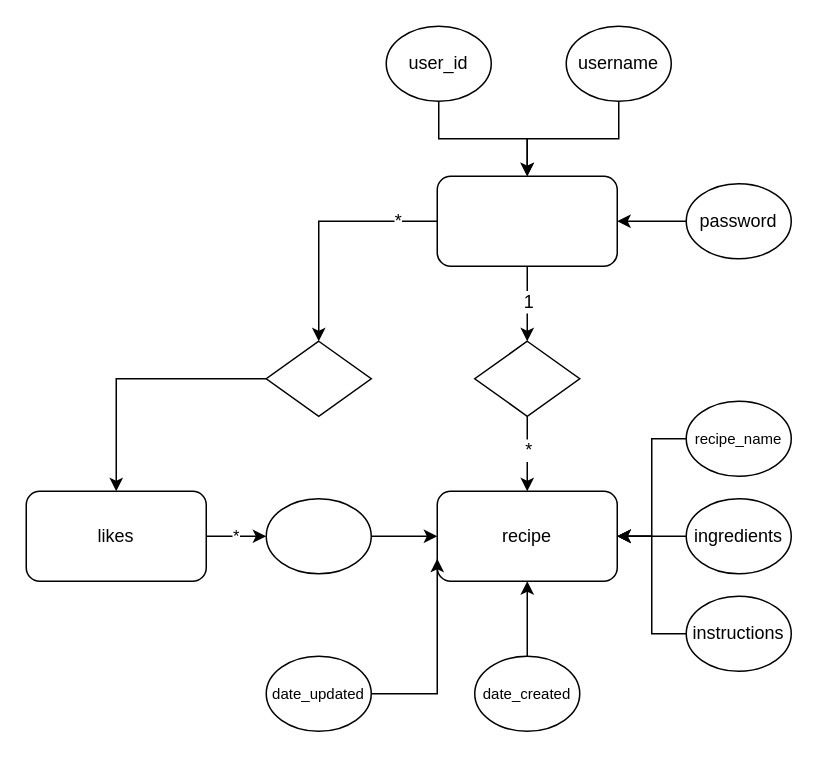
The diagram is 818 pixels wide and 758 high, and some of its shapes have lost their labels. The box of each missing label's shape, as (x1, y1, x2, y2) in pixels:
created by: (473, 340, 580, 416)
liked by: (265, 340, 371, 416)
recipe_id: (265, 497, 371, 574)
user: (436, 175, 617, 266)
